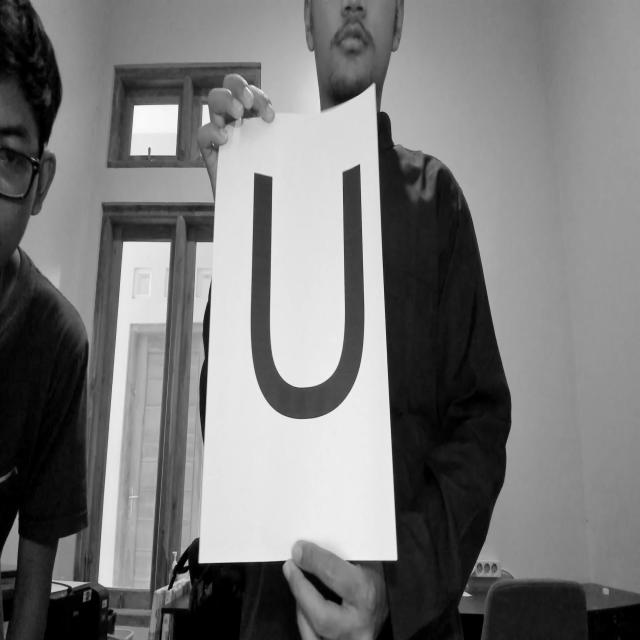u: (228, 139, 377, 439)
